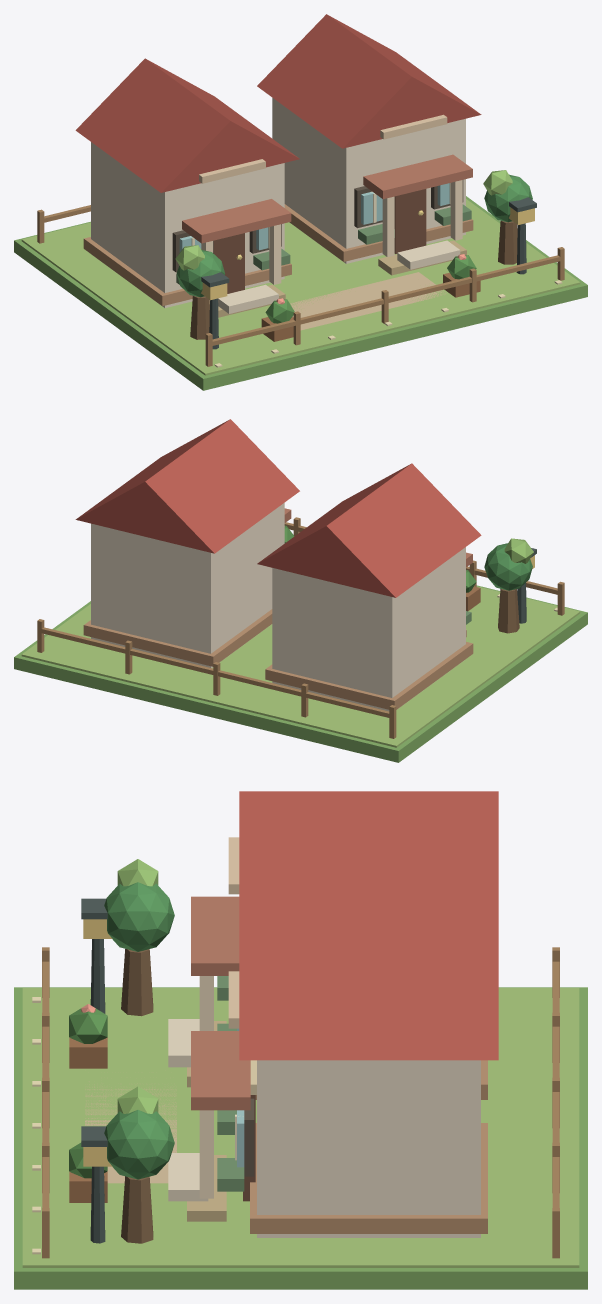
The model's file is hut-lv3.obj.
3 views of the same model, one above another, from view 1: azimuth 30°, elevation 25°; view 2: azimuth 150°, elevation 25°; view 3: azimuth 270°, elevation 25° (orthographic). The views are drawn at different scales.
Parts seen in each view (by area): view 1: hut_4, hut_3, hut_1, hut_0, hut_18, hut_22, hut_16, hut_21, hut_5, hut_19, hut_12, hut_27 (+11 smaller); view 2: hut_3, hut_4, hut_1, hut_0, hut_16, hut_22, hut_27, hut_26, hut_28; view 3: hut_4, hut_1, hut_3, hut_0, hut_18, hut_27, hut_16, hut_22, hut_26, hut_29, hut_12, hut_19 (+9 smaller).
Boxes of the visible parts, x1,y1,x2,y2 form: hut_4: (75, 14, 481, 192); hut_3: (91, 98, 465, 307); hut_1: (21, 199, 580, 375); hut_0: (14, 196, 587, 390); hut_18: (182, 154, 472, 243); hut_22: (37, 205, 564, 366); hut_16: (83, 204, 473, 305); hut_21: (266, 272, 446, 330); hut_5: (213, 189, 426, 293); hut_19: (201, 180, 462, 300); hut_12: (218, 240, 460, 313); hut_27: (176, 174, 532, 297); hut_3: (91, 503, 465, 711); hut_4: (75, 419, 481, 597); hut_1: (21, 586, 580, 747); hut_0: (14, 585, 587, 762); hut_16: (83, 609, 473, 709); hut_22: (37, 517, 564, 738); hut_27: (484, 543, 532, 590); hut_26: (498, 588, 519, 633); hut_28: (504, 538, 533, 563); hut_4: (239, 791, 498, 1060); hut_1: (22, 988, 579, 1267); hut_3: (257, 1060, 480, 1237); hut_0: (14, 987, 587, 1289); hut_18: (191, 896, 250, 1110); hut_27: (104, 882, 174, 1179); hut_16: (250, 1060, 487, 1233); hut_22: (42, 947, 559, 1258); hut_26: (121, 949, 153, 1243); hut_29: (81, 898, 107, 1243); hut_12: (168, 1019, 208, 1201); hut_19: (199, 976, 213, 1198).
Size of the model in its own units: 4.75 by 2.25 by 4.05.
